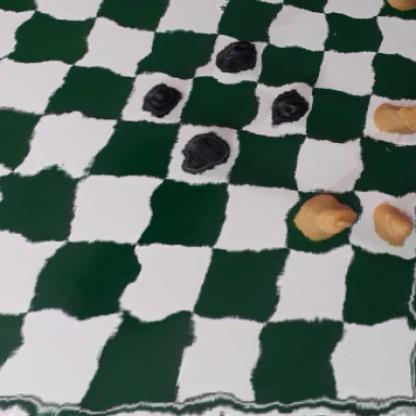black-king: (206, 33, 262, 77)
black-pawn: (130, 81, 187, 121), (262, 89, 308, 130)
black-rook: (174, 130, 230, 176)
white-bishop: (381, 0, 416, 13)
white-king: (290, 190, 358, 239)
white-pawn: (369, 198, 416, 243)
white-rook: (370, 100, 416, 140)
